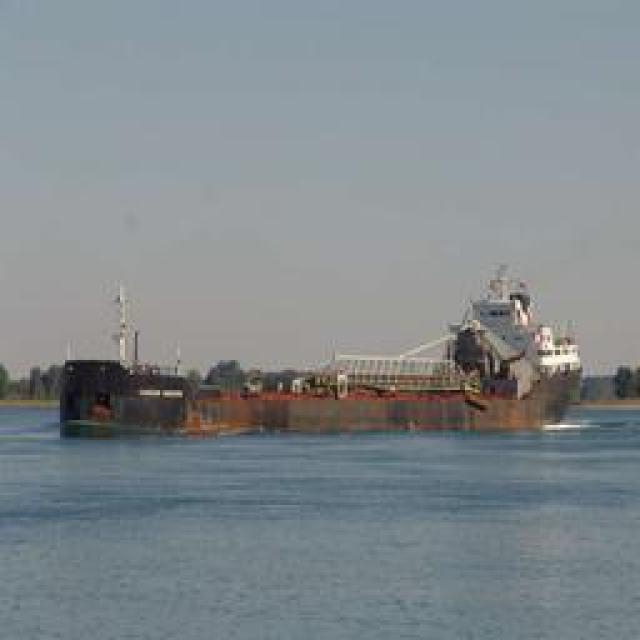Ship: (50, 265, 585, 446)
